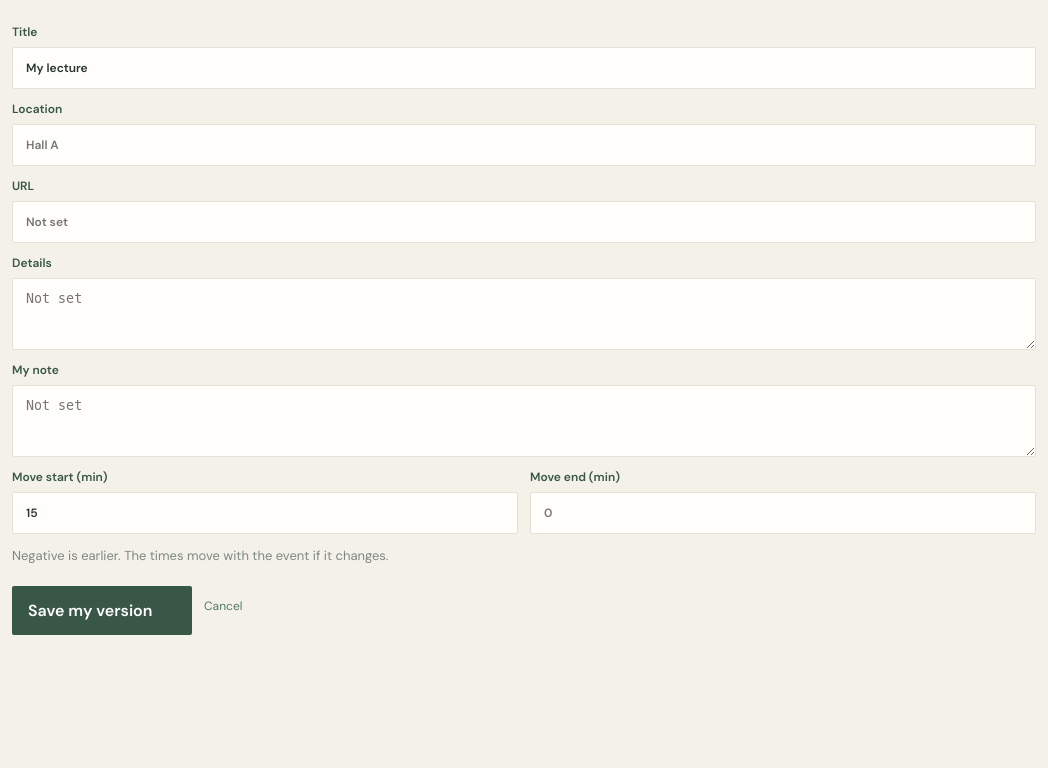
Test: CustomizationForm › keeps the form open with the server's error
Step 1. Click the button "Save my version" → (102, 610), box [12,586,192,634]
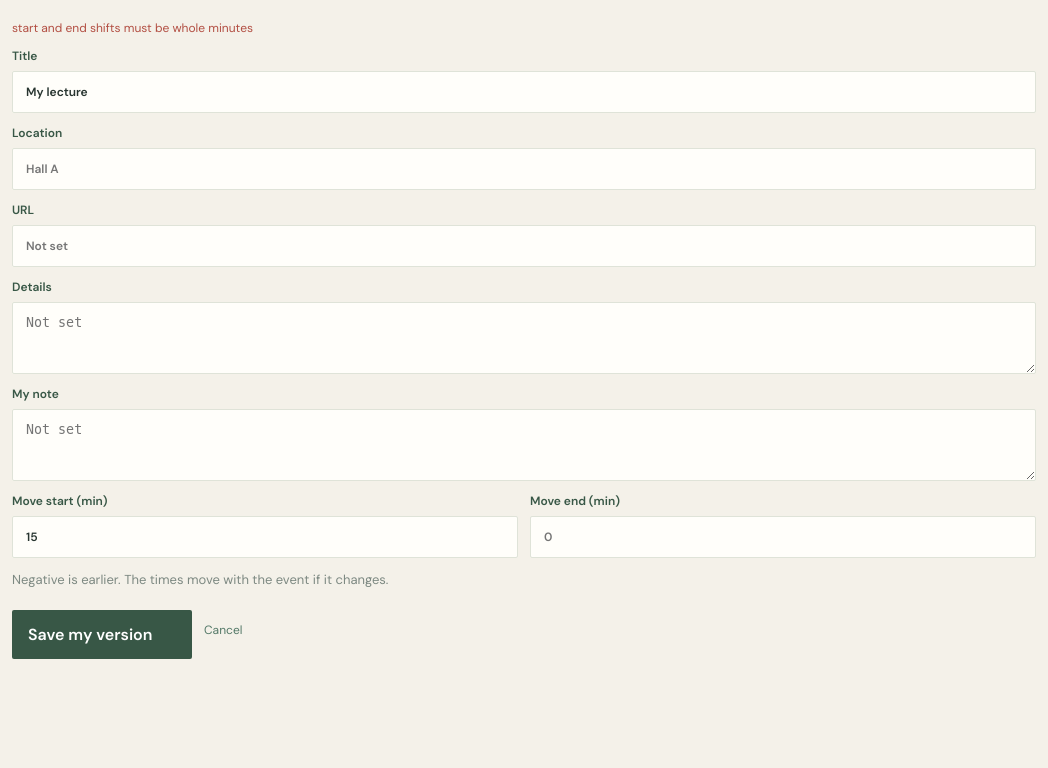
Expected: the text "start and end shifts must be whole minutes" is shown, [12,20,253,36]
